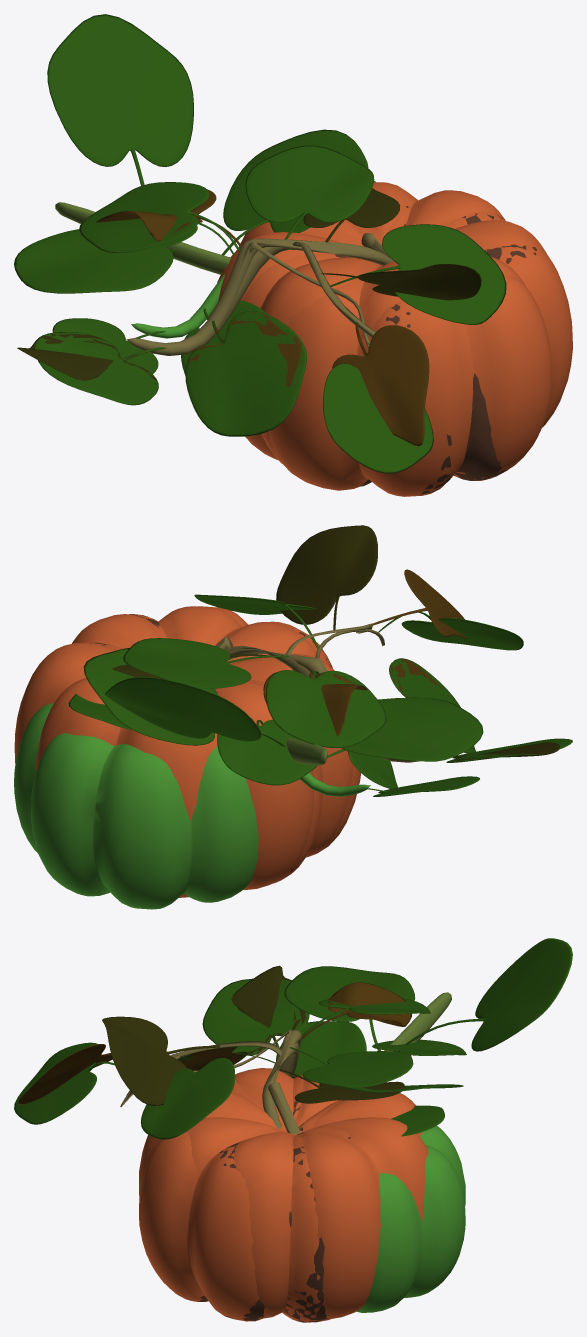
File: Abobora.fbx
3 renders of one model, top to bottom at view 1: azimuth 30°, elevation 25°; view 2: azimuth 150°, elevation 25°; view 3: azimuth 270°, elevation 25°, orthographic. The views are drawn at different scales.
Parts seen in each view (by area): view 1: AboboraMadura, FolhaAbobora, AboboraMorrendo, Abobora, AboboraVerde; view 2: AboboraVerde, Abobora, AboboraMadura, FolhaAbobora, AboboraMorrendo; view 3: AboboraMadura, Abobora, AboboraMorrendo, AboboraVerde, FolhaAbobora.
Part boxes in pixels (bbox=[...]): AboboraMadura: bbox=[34, 145, 572, 496]; FolhaAbobora: bbox=[14, 14, 368, 293]; AboboraMorrendo: bbox=[17, 188, 536, 495]; Abobora: bbox=[209, 182, 546, 463]; AboboraVerde: bbox=[52, 181, 375, 374]; AboboraVerde: bbox=[14, 694, 479, 909]; Abobora: bbox=[14, 606, 352, 897]; AboboraMadura: bbox=[85, 594, 572, 883]; FolhaAbobora: bbox=[83, 648, 483, 765]; AboboraMorrendo: bbox=[90, 525, 559, 880]; AboboraMadura: bbox=[14, 978, 430, 1322]; Abobora: bbox=[186, 1068, 428, 1319]; AboboraMorrendo: bbox=[18, 965, 411, 1322]; AboboraVerde: bbox=[276, 1021, 466, 1312]; FolhaAbobora: bbox=[284, 938, 572, 1092].
Size of the model in its own units: 30.71 by 18.94 by 33.48.
